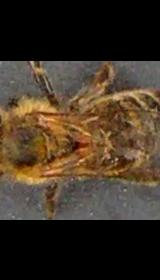varroa_mite: (71, 130, 91, 161)
